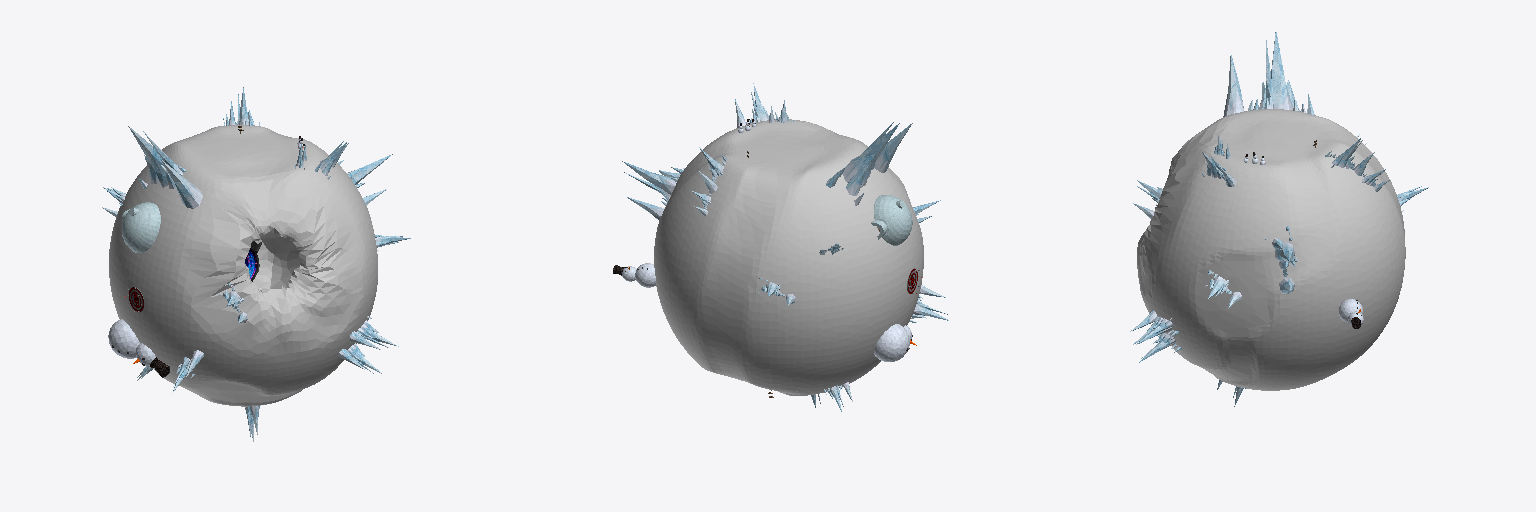
3 views of the same model, side by side, from view 1: azimuth 30°, elevation 25°; view 2: azimuth 150°, elevation 25°; view 3: azimuth 270°, elevation 25° (orthographic).
Parts seen in each view (by area): view 1: planete2, stalagmite.011, igloo.000_igloo.001, bonhommeNeige.001, stalagmite.009; view 2: planete2, stalagmite.011, igloo.000_igloo.001, stalagmite.004, bonhommeNeige.001, bonhommeNeige.000_bonhommeNeige.002; view 3: planete2, stalagmite.011, stalagmite.004, bonhommeNeige.000_bonhommeNeige.002, stalagmite.009, stalagmite.002.
Part boxes in pixels (x1,y1,x2,y2): planete2: (109, 125, 377, 406); stalagmite.011: (128, 126, 202, 208); igloo.000_igloo.001: (122, 202, 160, 252); bonhommeNeige.001: (108, 319, 169, 377); stalagmite.009: (349, 316, 398, 349); planete2: (654, 119, 923, 395); stalagmite.011: (826, 122, 912, 205); igloo.000_igloo.001: (871, 195, 912, 245); stalagmite.004: (622, 161, 684, 220); bonhommeNeige.001: (874, 324, 916, 361); bonhommeNeige.000_bonhommeNeige.002: (613, 263, 655, 287); planete2: (1137, 109, 1405, 390); stalagmite.011: (1223, 32, 1314, 116); stalagmite.004: (1265, 226, 1297, 293); bonhommeNeige.000_bonhommeNeige.002: (1339, 299, 1363, 328); stalagmite.009: (1130, 310, 1178, 344); stalagmite.002: (1325, 139, 1374, 175).
Size of the model in its own units: 1.22 by 1.35 by 1.12.
Materials: 7 (6 with a texture image).